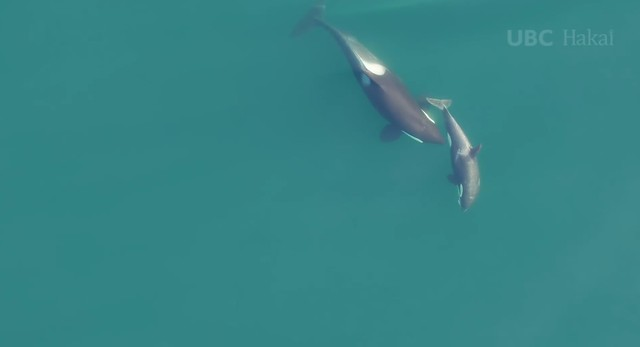whale: (291, 2, 451, 154), (419, 87, 492, 215)
